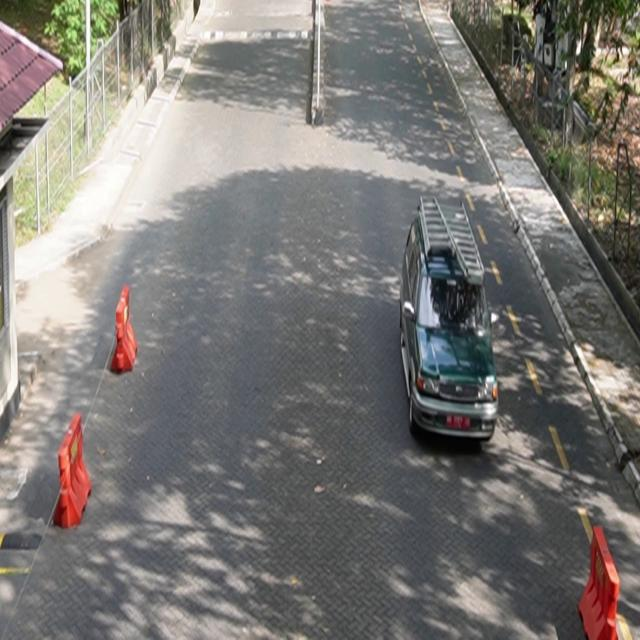car: (400, 195, 500, 443)
